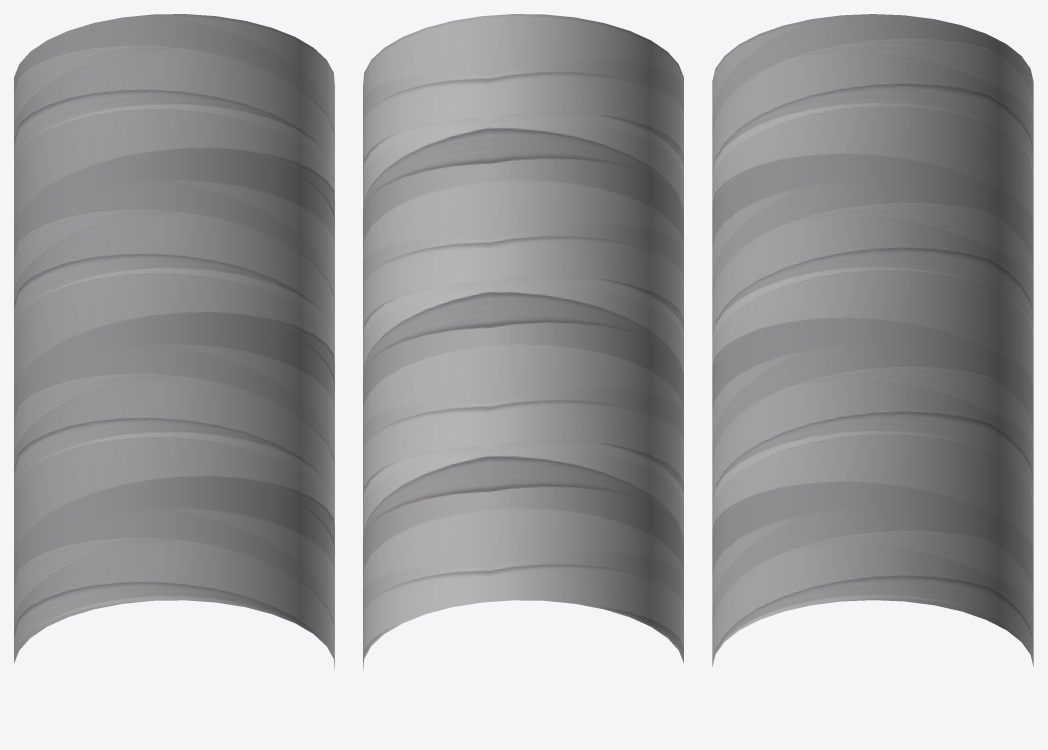
The model's file is Wall.gltf.
The picture shows the model from 3 angles, left to right: view 1: azimuth 30°, elevation 25°; view 2: azimuth 150°, elevation 25°; view 3: azimuth 270°, elevation 25°; orthographic projection.
Parts seen in each view (by area): view 1: Cylinder041; view 2: Cylinder041; view 3: Cylinder041.
Boxes of the visible parts, box(x1,y1,x2,y2) form: Cylinder041: box(14, 14, 334, 670); Cylinder041: box(363, 14, 683, 670); Cylinder041: box(712, 14, 1033, 666).
Bounding box in the file's own units: 12628 × 25410 × 12628.
Materials: 1 (1 with a texture image).
